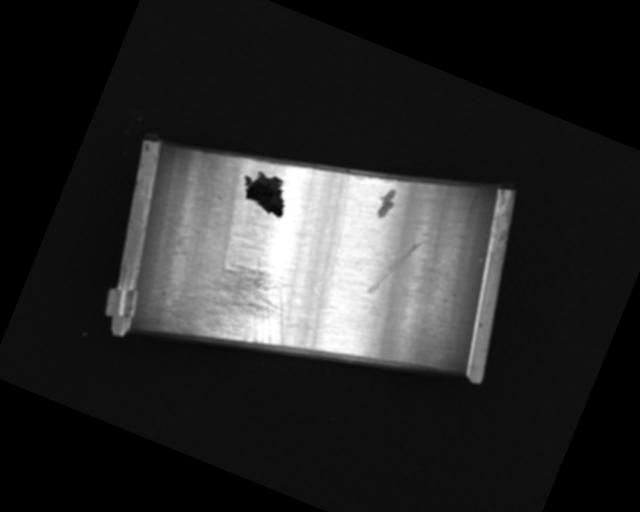blot: (233, 163, 296, 219)
bruise: (372, 184, 401, 222)
nick: (301, 175, 367, 295), (365, 226, 424, 307)
scratch: (162, 232, 312, 373)
